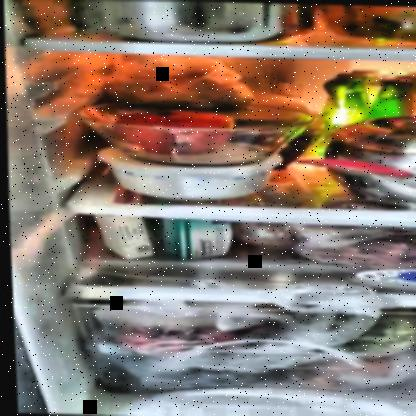mineral_water: (332, 65, 415, 115)
tomato: (116, 108, 228, 130)
